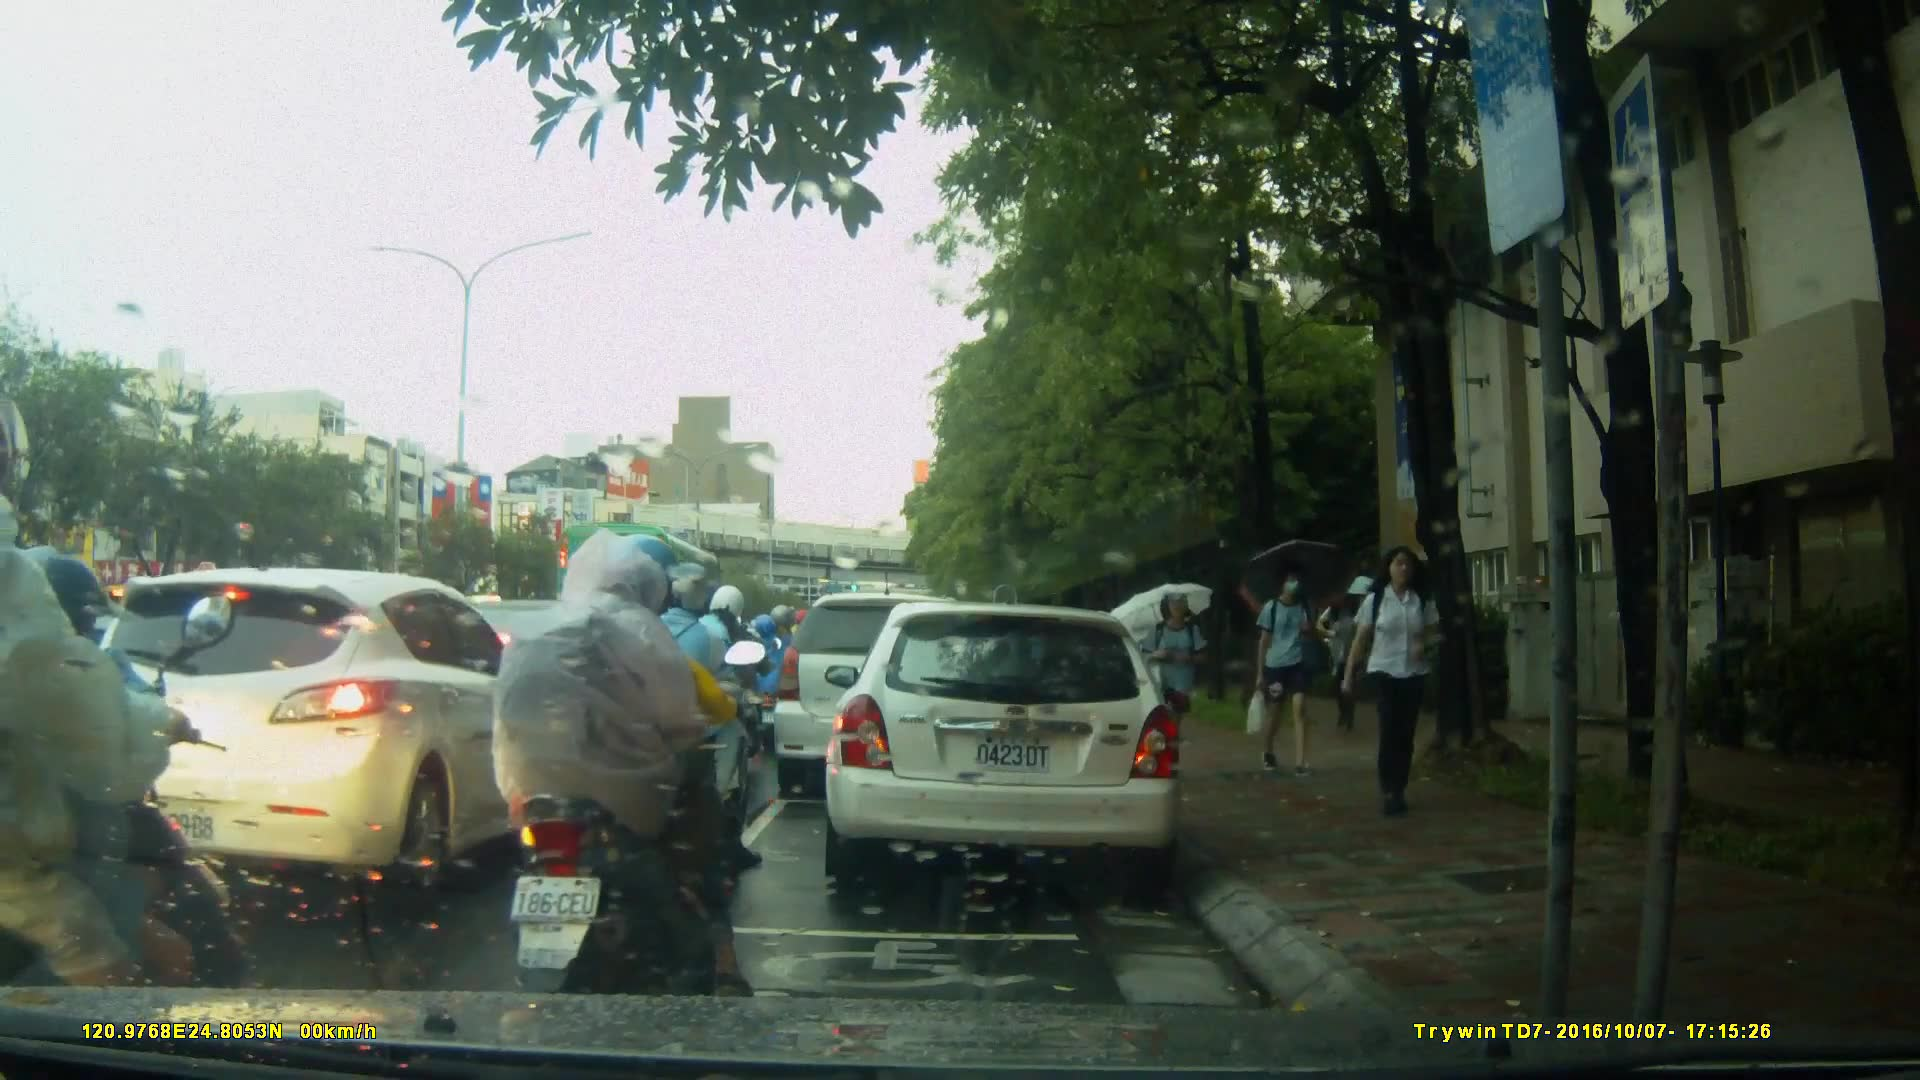pedestrian: (1345, 542, 1454, 825), (1242, 557, 1324, 783), (1145, 586, 1207, 773), (1135, 605, 1175, 738)
rider: (1, 416, 258, 1066), (495, 535, 767, 1008), (604, 561, 741, 871), (642, 578, 759, 842), (737, 602, 799, 746)
vehicle: (81, 568, 587, 889), (822, 604, 1186, 882), (774, 595, 995, 802), (554, 519, 739, 666)
